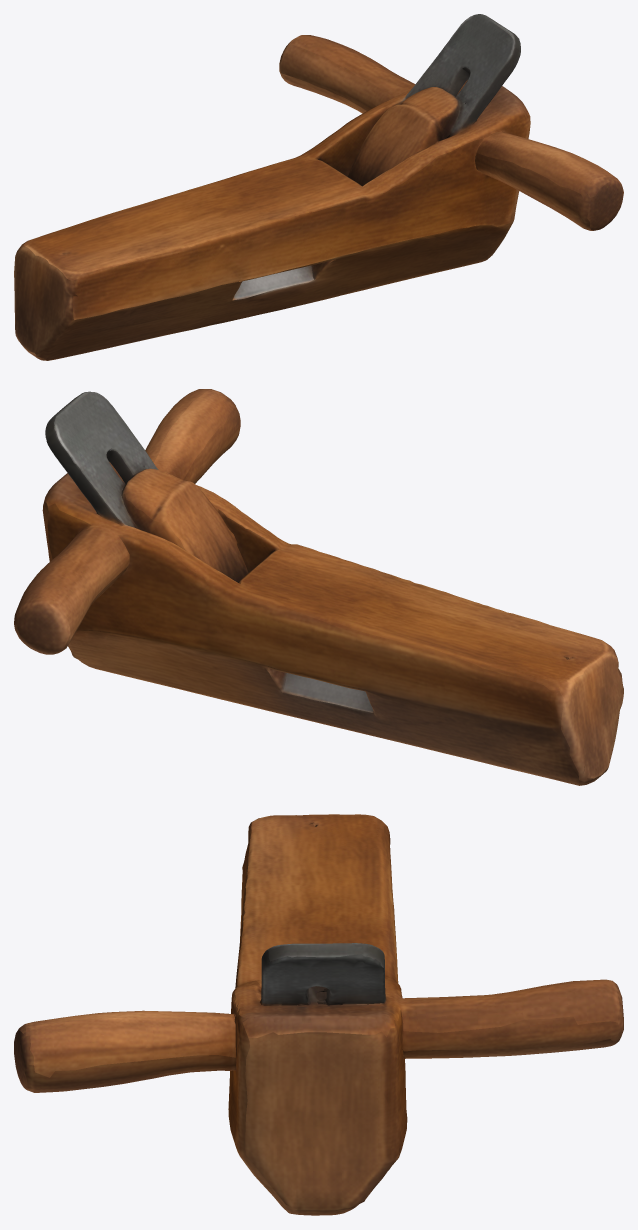
The picture shows the model from 3 angles, top to bottom: view 1: azimuth 30°, elevation 25°; view 2: azimuth 150°, elevation 25°; view 3: azimuth 270°, elevation 25°; orthographic projection. The views are drawn at different scales.
Parts seen in each view (by area): view 1: world; view 2: world; view 3: world.
Part boxes in pixels (left/top/right/bottom): world: left=14, top=14, right=623, bottom=360; world: left=14, top=389, right=623, bottom=785; world: left=14, top=814, right=623, bottom=1215.
Bounding box in the file's own units: 1 × 0.4431 × 0.8491.
Materials: 1 (1 with a texture image).
